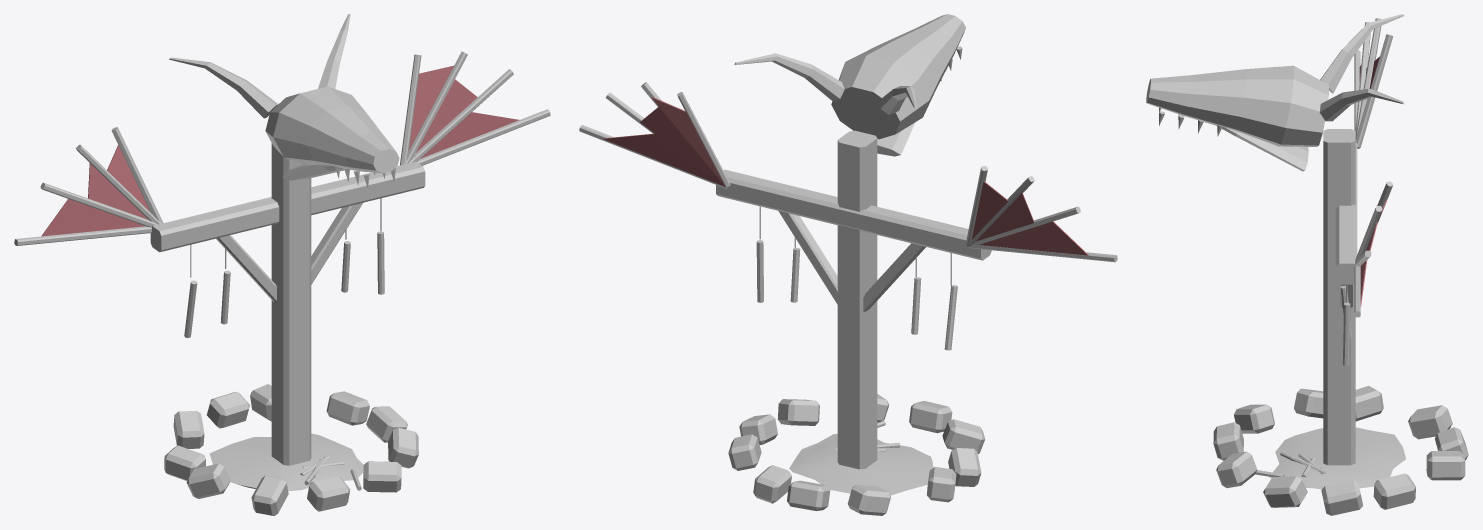
File: dracolich_idol.glb
The picture shows the model from 3 angles, left to right: view 1: azimuth 30°, elevation 25°; view 2: azimuth 150°, elevation 25°; view 3: azimuth 270°, elevation 25°; orthographic projection.
Visible parts, largest first — view 1: dracolich_idol; view 2: dracolich_idol; view 3: dracolich_idol.
Boxes of the visible parts, left/top/right/bottom form: dracolich_idol: left=14, top=14, right=550, bottom=515; dracolich_idol: left=579, top=14, right=1117, bottom=515; dracolich_idol: left=1146, top=14, right=1468, bottom=515.
Bounding box in the file's own units: 6.87 × 5.03 × 3.58.
